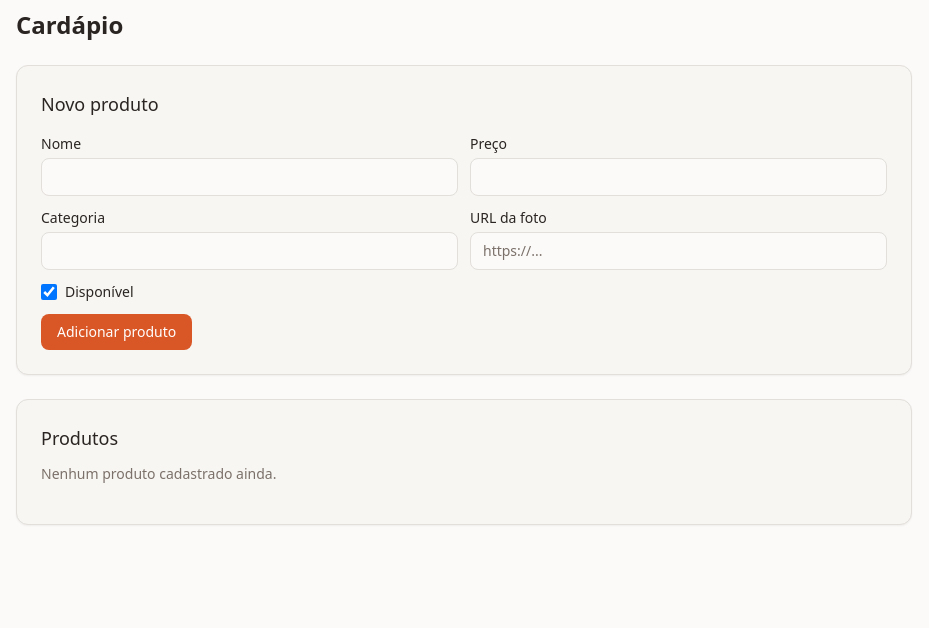
Test: CardapioPage › cria um produto novo com sucesso e ele aparece na lista
Expected: the text "Nenhum produto cadastrado ainda." is shown, [41,464,276,483]
Type "Coca-Cola 2L" into the field labelled "Nome".
click(250, 177); type("Coca-Cola 2L")  # box [41,158,458,196]
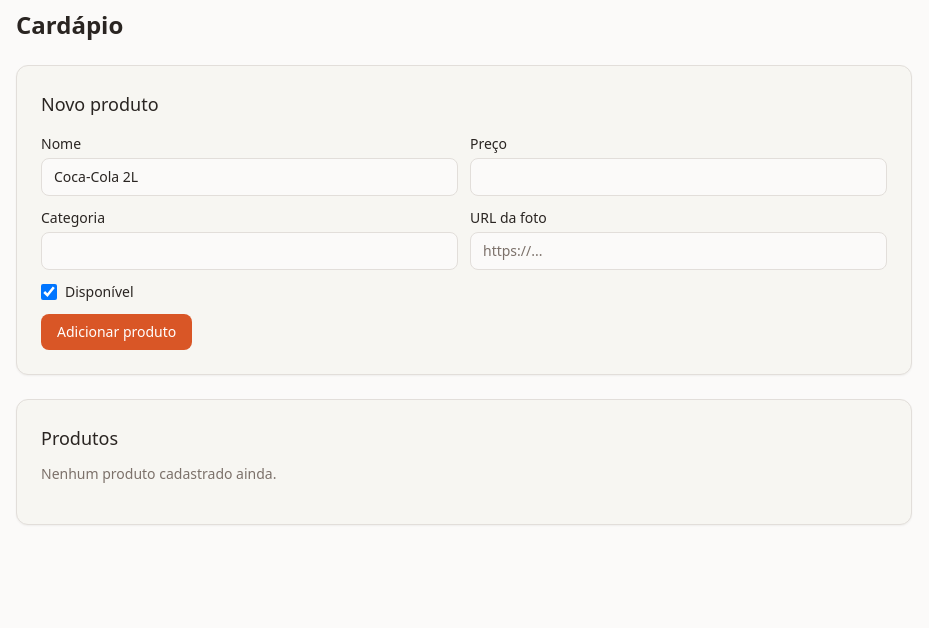
Type "12" into the number field labelled "Preço".
click(678, 177); type("12")  # box [470,158,887,196]
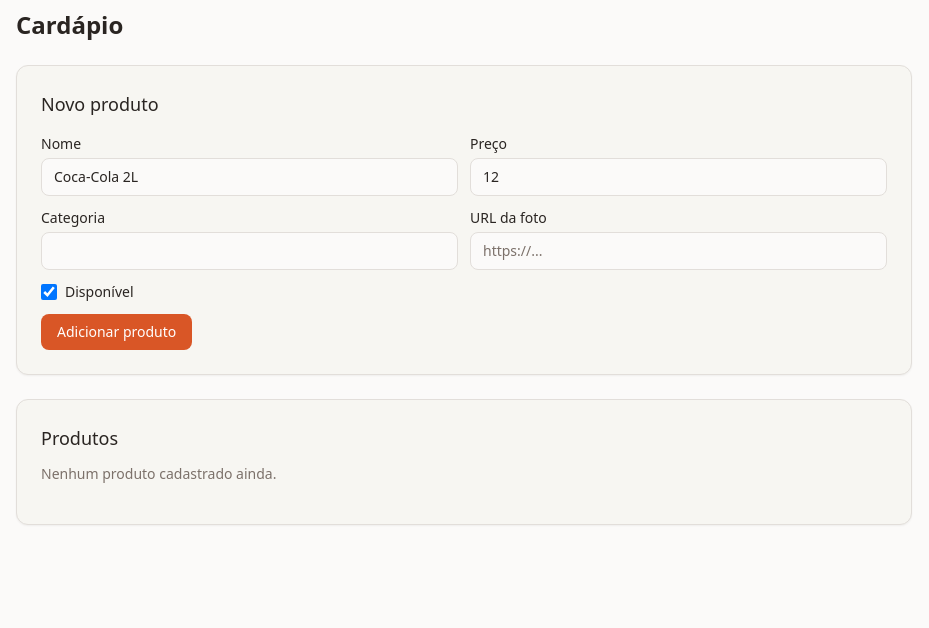
Type "Bebidas" into the field labelled "Categoria".
click(250, 251); type("Bebidas")  # box [41,232,458,270]
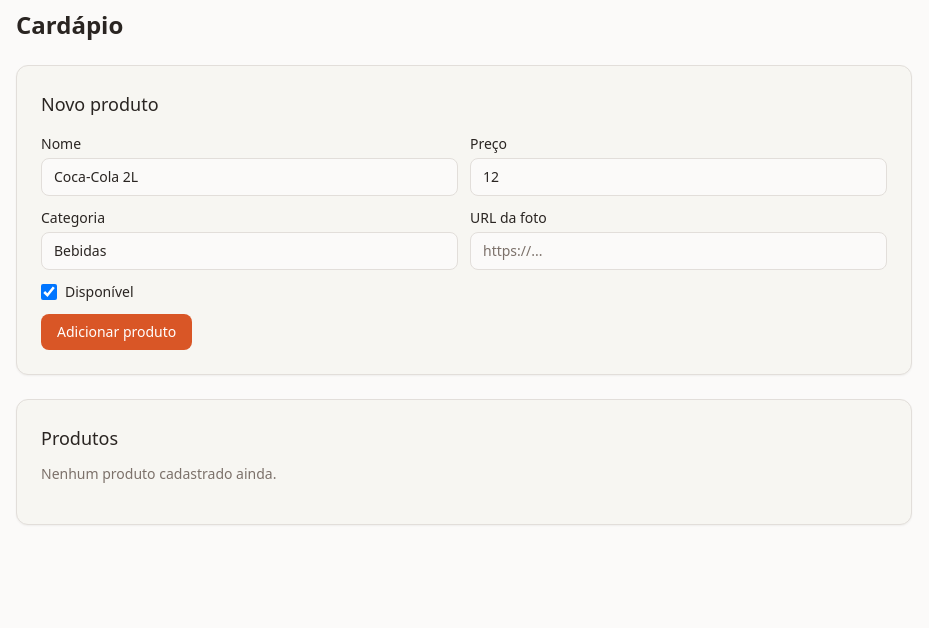
Click the button "Adicionar produto".
click(117, 332)  # box [41,314,192,350]
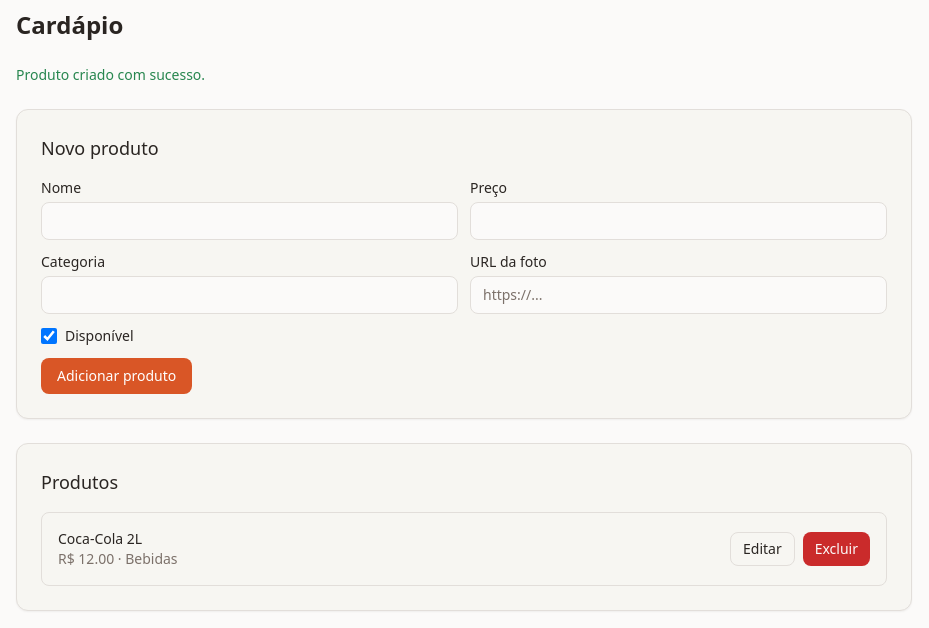
Expected: the text "Coca-Cola 2L" is shown, [58,529,142,548]
